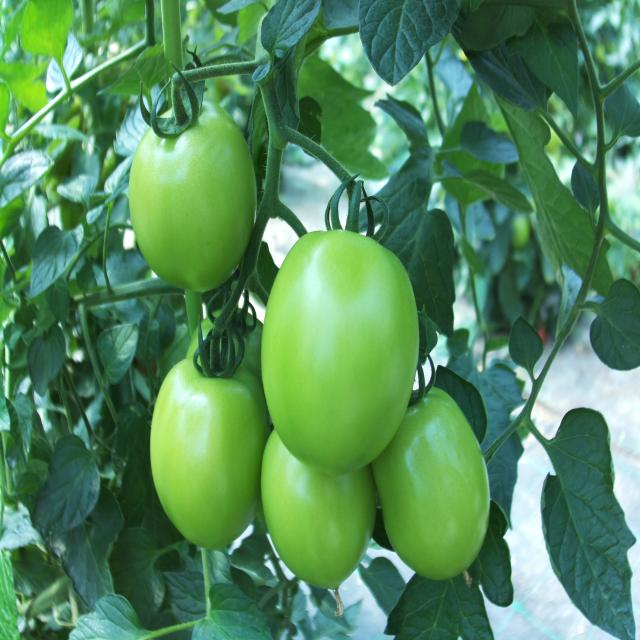yesil: (117, 105, 500, 613)
